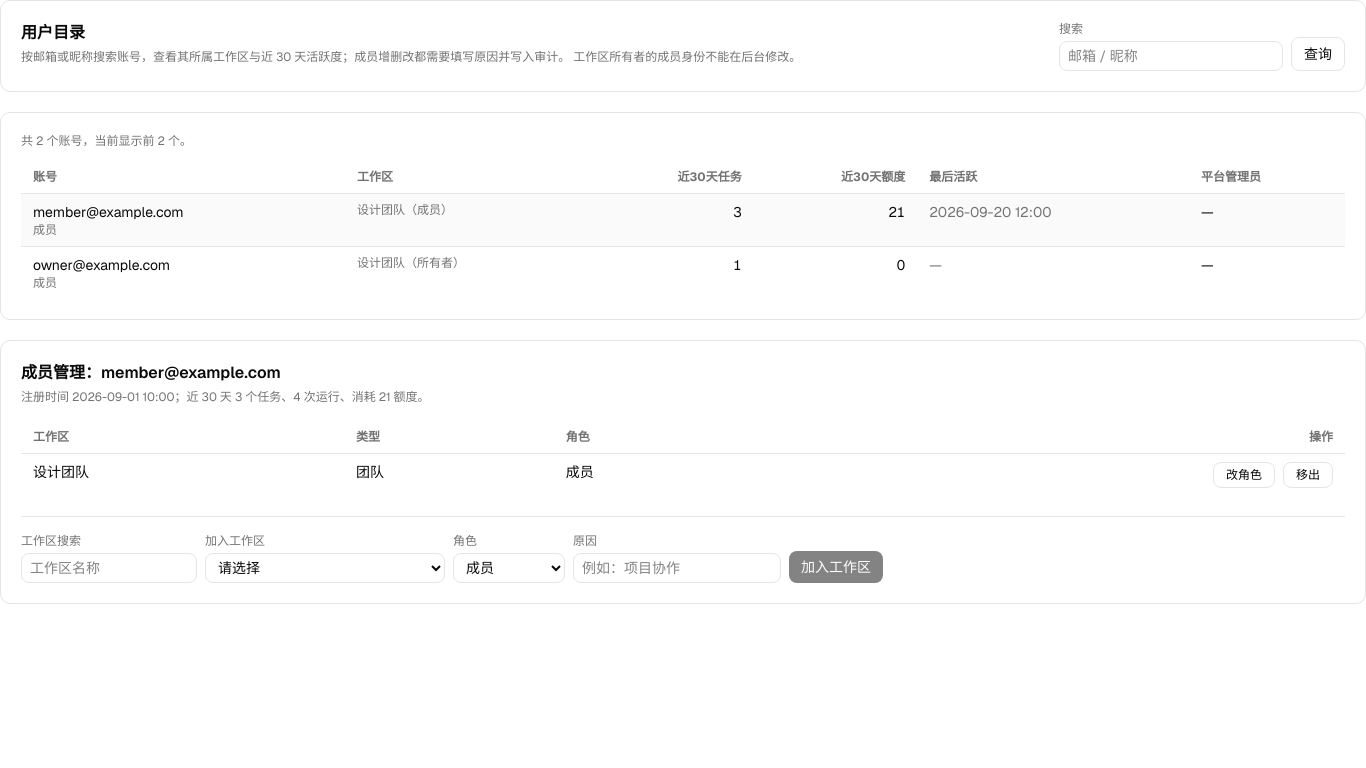
Test: admin users section › adds the selected account to a workspace with a mandatory reason
Check: the button "加入工作区" is disabled, box [789, 551, 883, 583]
Step 1. Select "另一个工作区（1 人）" in the dropdown named "选择工作区" → (325, 568), box [205, 553, 445, 583]
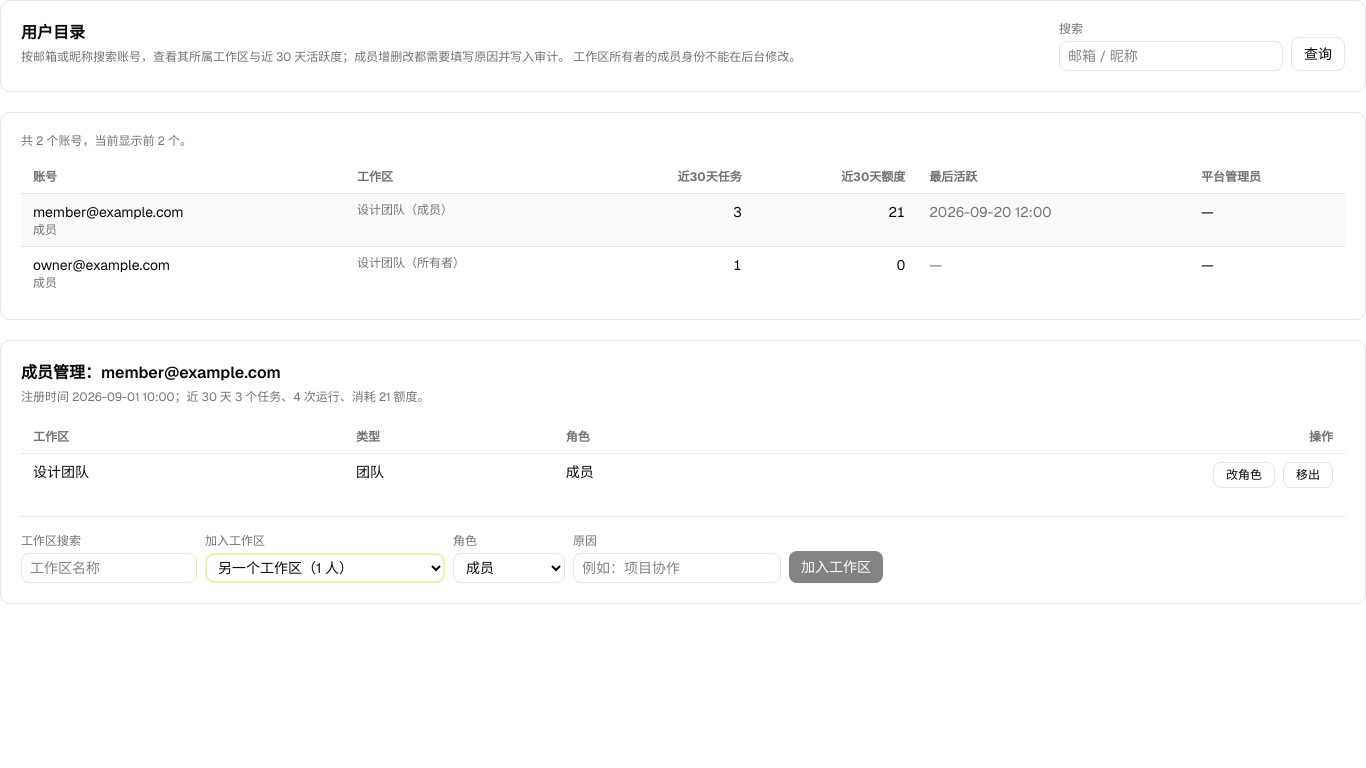
Step 2. Select "管理员" in the dropdown named "新成员角色" → (509, 568), box [453, 553, 565, 583]
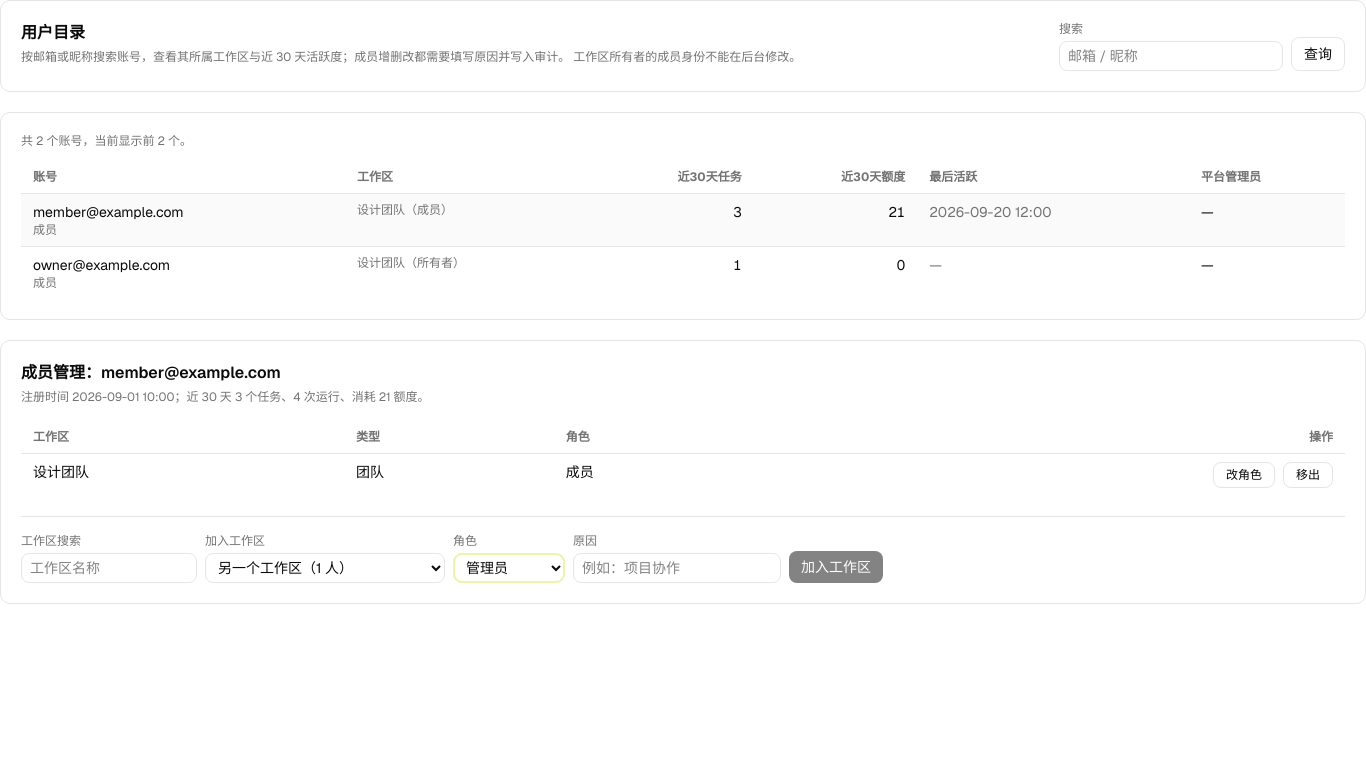
Step 3. Type "项目协作" into the field named "加入工作区原因" → (677, 568), box [573, 553, 781, 583]
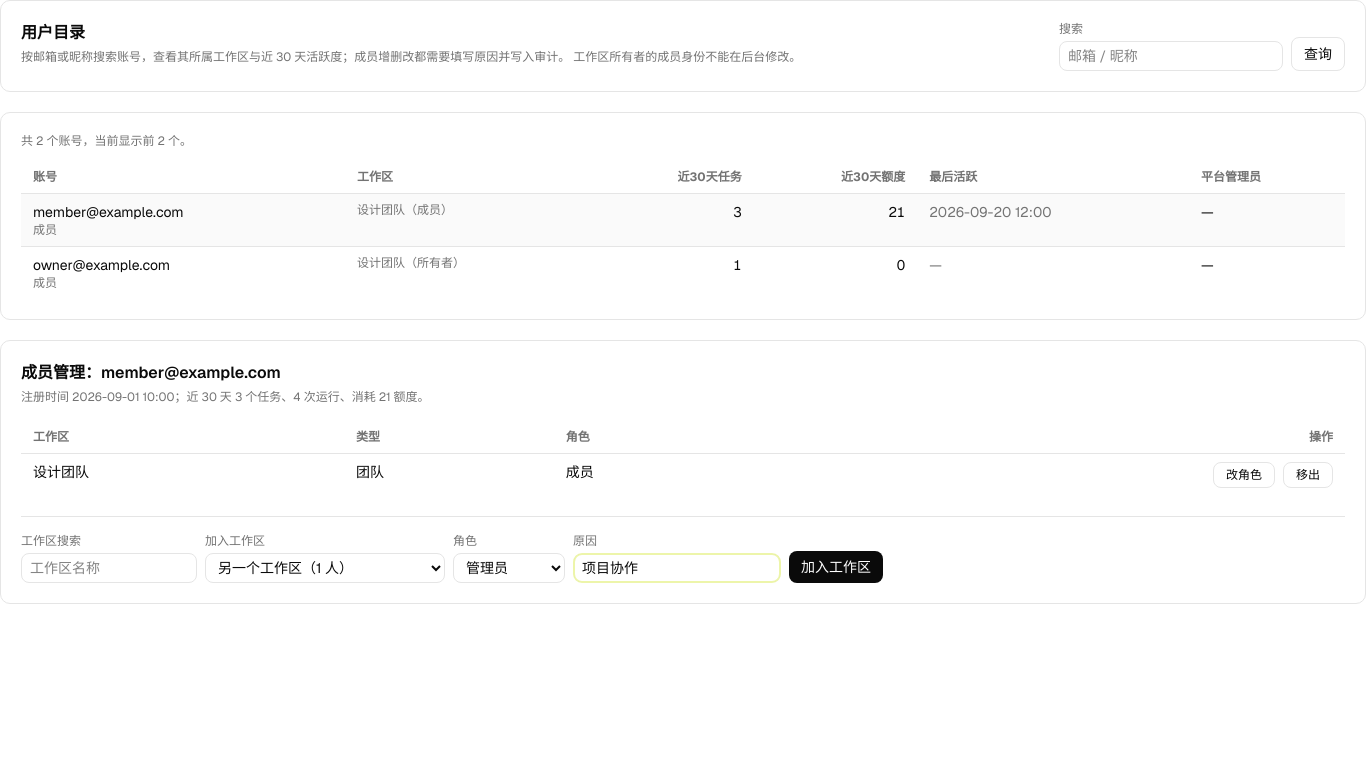
Check: the button "加入工作区" is enabled
Step 4. Click the button "加入工作区" → click(836, 567), box [789, 551, 883, 583]
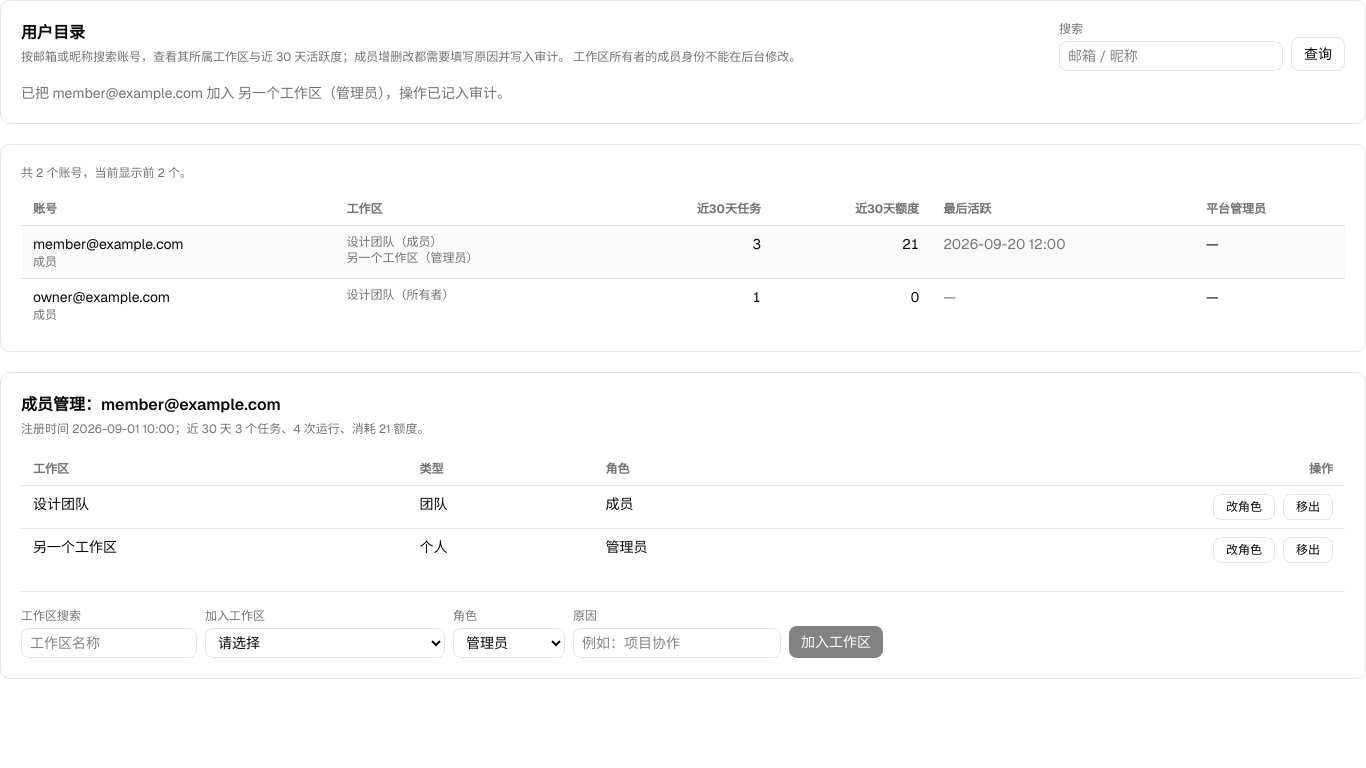
Check: the text with test id "admin-users-feedback" shows "已把 member@example.com 加入 另一个工作区（管理员）", box [21, 84, 511, 102]
